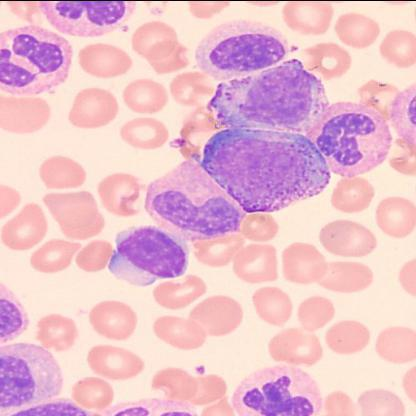Segmented neutrophil: (201, 125, 334, 213)
